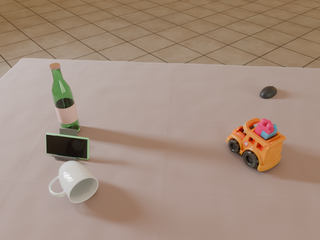bottle: (50, 63, 80, 131)
cup: (49, 161, 98, 203)
mouse: (260, 86, 277, 98)
phone: (46, 133, 89, 159)
toy_car: (226, 118, 286, 171)
